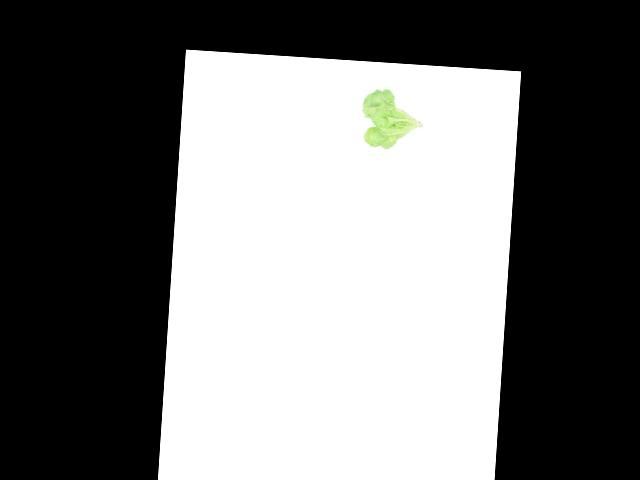lettuce: (356, 84, 426, 153)
